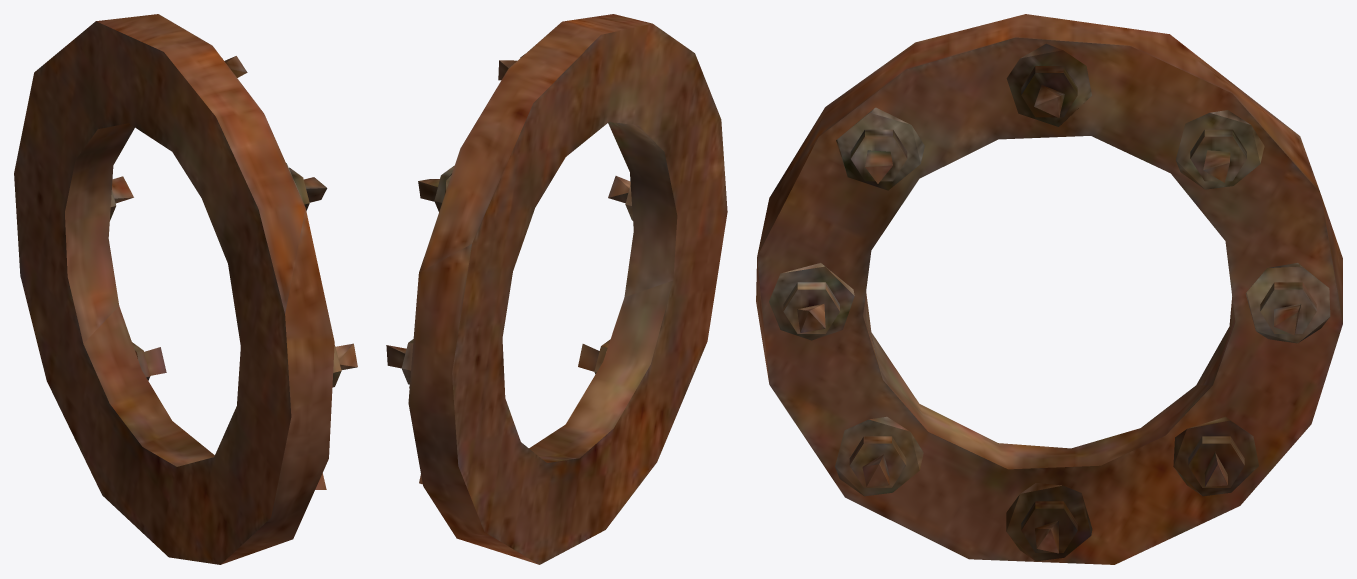
Rendered from old_pipe_07.glb.
3 views of the same model, side by side, from view 1: azimuth 30°, elevation 25°; view 2: azimuth 150°, elevation 25°; view 3: azimuth 270°, elevation 25° (orthographic). The views are drawn at different scales.
Visible parts, largest first — view 1: old_pipe_07; view 2: old_pipe_07; view 3: old_pipe_07.
Boxes of the visible parts, box(x1,y1,x2,y2) form: old_pipe_07: box(14, 14, 357, 564); old_pipe_07: box(386, 14, 727, 564); old_pipe_07: box(756, 14, 1342, 564).
Size of what is drawn, in the model's own units: 0.0154 by 0.0843 by 0.0844.
Materials: 1 (1 with a texture image).
